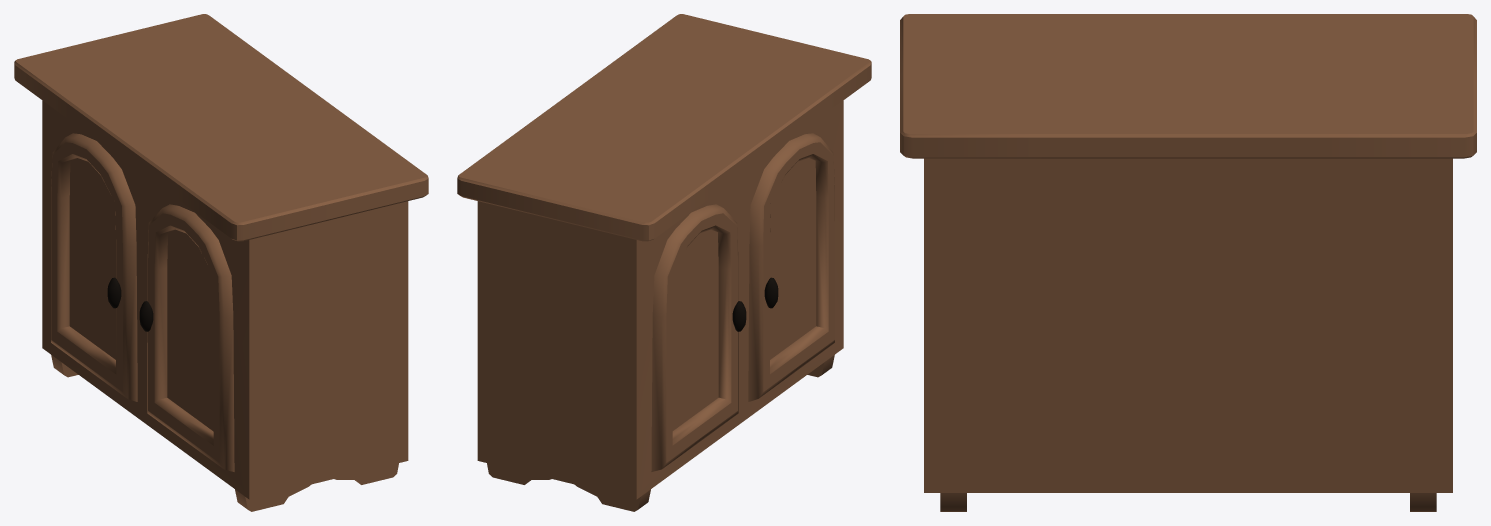
Rendered from CI_079_cupboard_var1.glb.
3 views of the same model, side by side, from view 1: azimuth 30°, elevation 25°; view 2: azimuth 150°, elevation 25°; view 3: azimuth 270°, elevation 25° (orthographic). The views are drawn at different scales.
Parts seen in each view (by area): view 1: cupboard, knob; view 2: cupboard, knob; view 3: cupboard.
Boxes of the visible parts, box(x1,y1,x2,y2) form: cupboard: box(14, 14, 428, 511); knob: box(107, 277, 153, 331); cupboard: box(457, 14, 871, 511); knob: box(732, 277, 778, 331); cupboard: box(900, 14, 1476, 511).
Size of the model in its own units: 0.7553 by 1.12 by 1.5.
